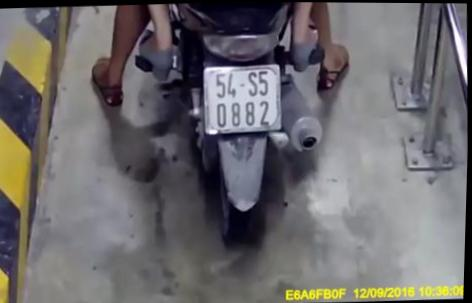LP: (202, 65, 285, 134)
